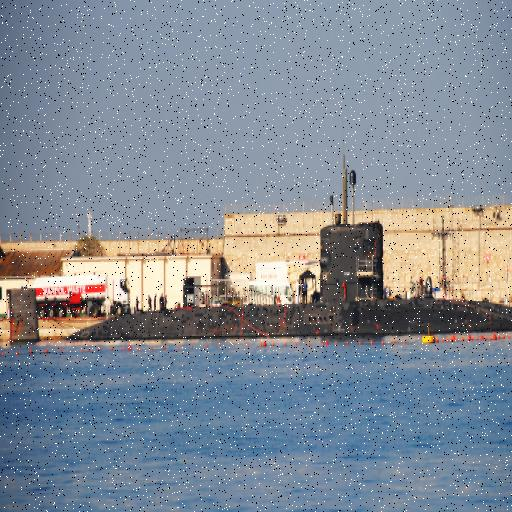submarine: (9, 210, 512, 344)
